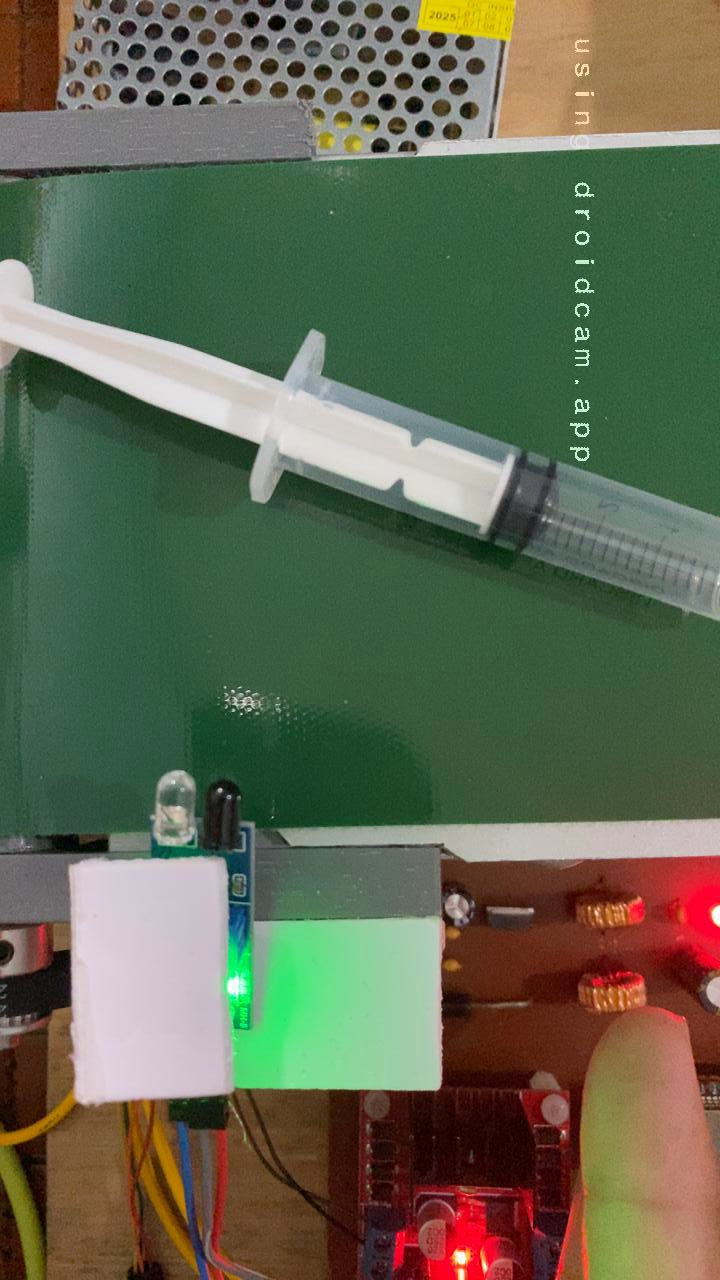syringe: (0, 252, 720, 628)
